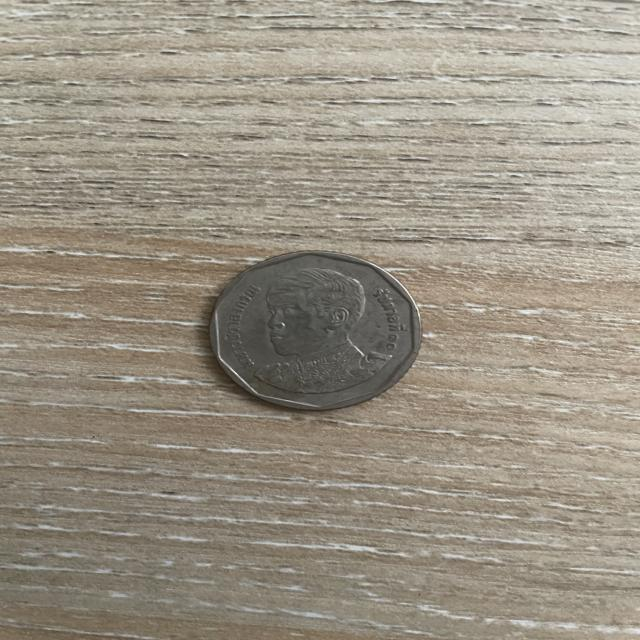5 Bath: (200, 246, 434, 416)
